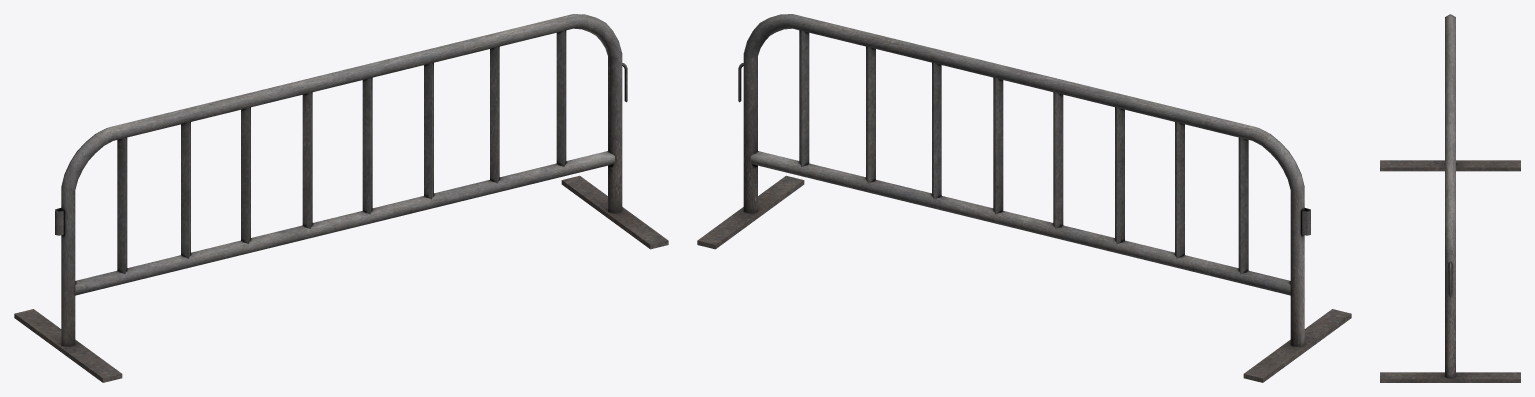
Rendered from barrier_metal.FBX.
3 renders of one model, left to right at view 1: azimuth 30°, elevation 25°; view 2: azimuth 150°, elevation 25°; view 3: azimuth 270°, elevation 25°, orthographic. The views are drawn at different scales.
Parts seen in each view (by area): view 1: barrier_metal; view 2: barrier_metal; view 3: barrier_metal.
Part boxes in pixels (bbox=[...]): barrier_metal: bbox=[14, 14, 668, 382]; barrier_metal: bbox=[697, 14, 1351, 382]; barrier_metal: bbox=[1380, 14, 1520, 382].
Size of the model in its own units: 120 by 42.13 by 32.08.
